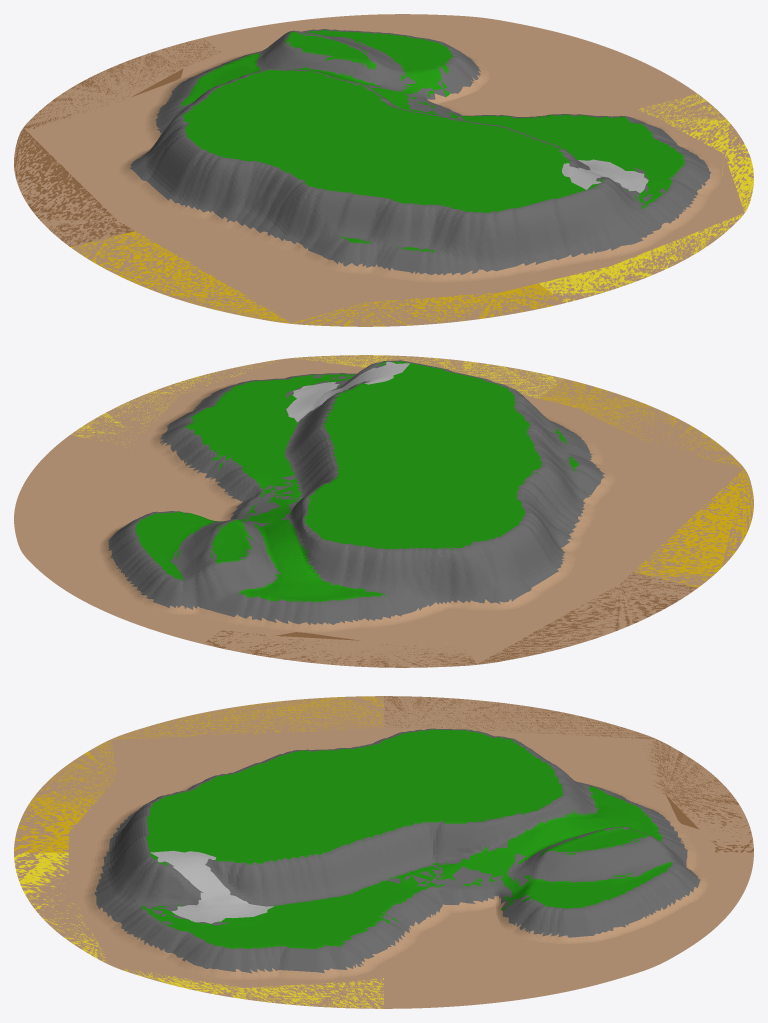
The model's file is Terrian.glb.
The picture shows the model from 3 angles, top to bottom: view 1: azimuth 30°, elevation 25°; view 2: azimuth 150°, elevation 25°; view 3: azimuth 270°, elevation 25°; orthographic projection. The views are drawn at different scales.
Visible parts, largest first — view 1: Cube, Cube.001; view 2: Cube, Cube.001; view 3: Cube, Cube.001.
Boxes of the visible parts, <box> form: Cube: <box>14,14,753,326</box>; Cube.001: <box>14,14,753,326</box>; Cube: <box>14,355,753,667</box>; Cube.001: <box>14,355,753,667</box>; Cube: <box>14,696,753,1008</box>; Cube.001: <box>14,696,753,1008</box>.
Size of the model in its own units: 18.31 by 1.22 by 18.31.
1 material, 1 textured.
